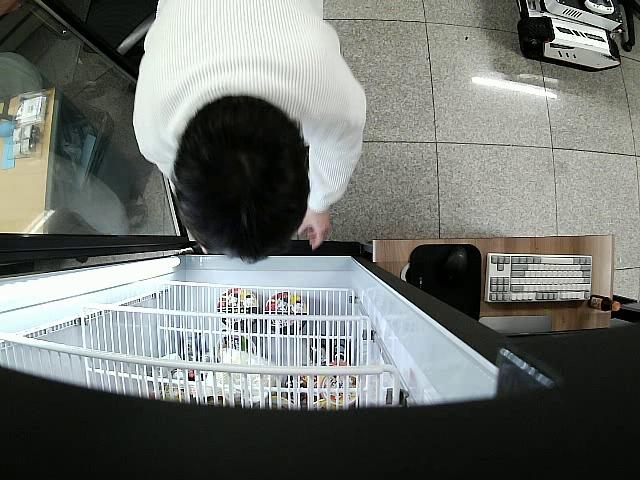00_hand: (297, 210, 332, 251)
